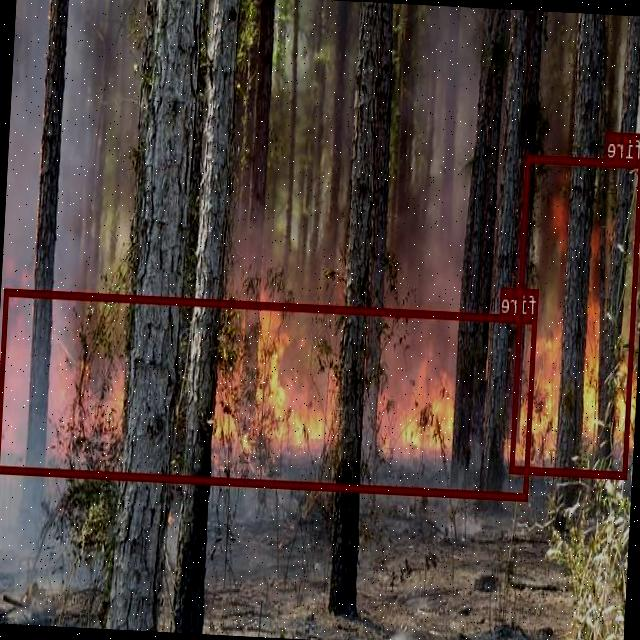fire: (0, 287, 538, 500), (511, 153, 640, 478)
